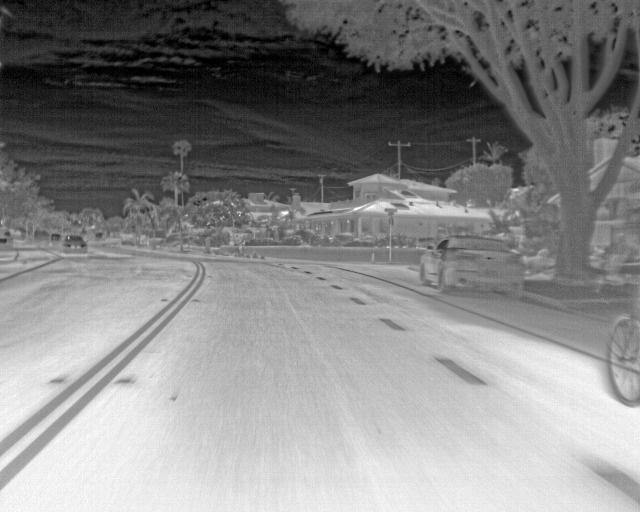bicycle: (601, 310, 639, 408)
car: (419, 235, 526, 301), (63, 235, 87, 257), (51, 232, 63, 247)
